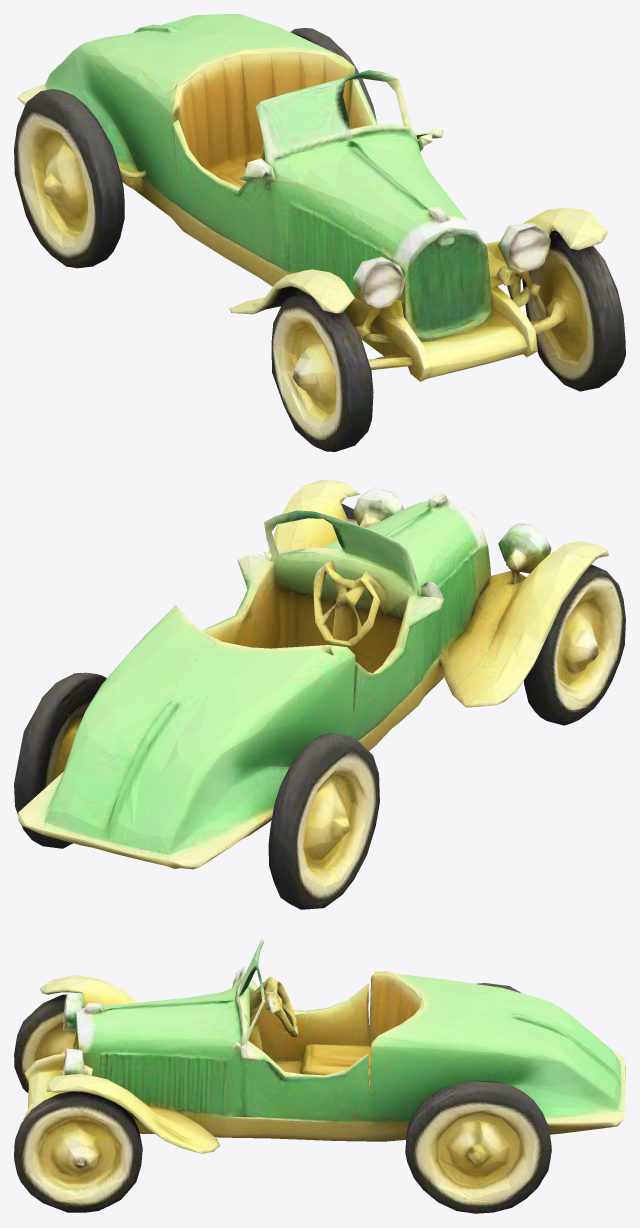
File: retro-roadster.glb
3 views of the same model, one above another, from view 1: azimuth 30°, elevation 25°; view 2: azimuth 150°, elevation 25°; view 3: azimuth 270°, elevation 25° (orthographic). The views are drawn at different scales.
Parts seen in each view (by area): view 1: model; view 2: model; view 3: model.
Part boxes in pixels (x1,y1,x2,y2): model: [14, 14, 625, 451]; model: [14, 480, 625, 909]; model: [14, 938, 625, 1213].
Size of the model in its own units: 1.33 by 1.05 by 2.9.
1 material, 1 textured.
